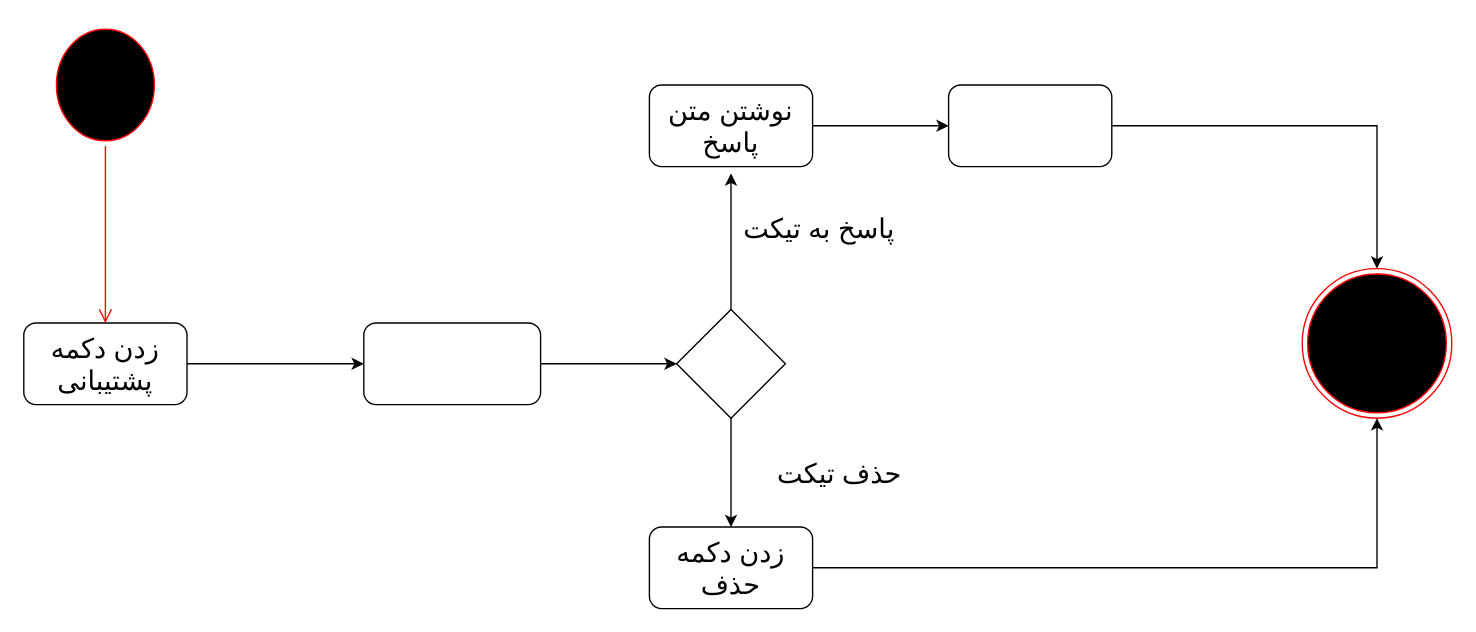
Image size: 1476x632. Some labels were removed from this diagram. Each missing label, with the centre of its shape:
"تایید" belongs at point (1029, 125).
"مشاهده تیکت ها" belongs at point (451, 363).
